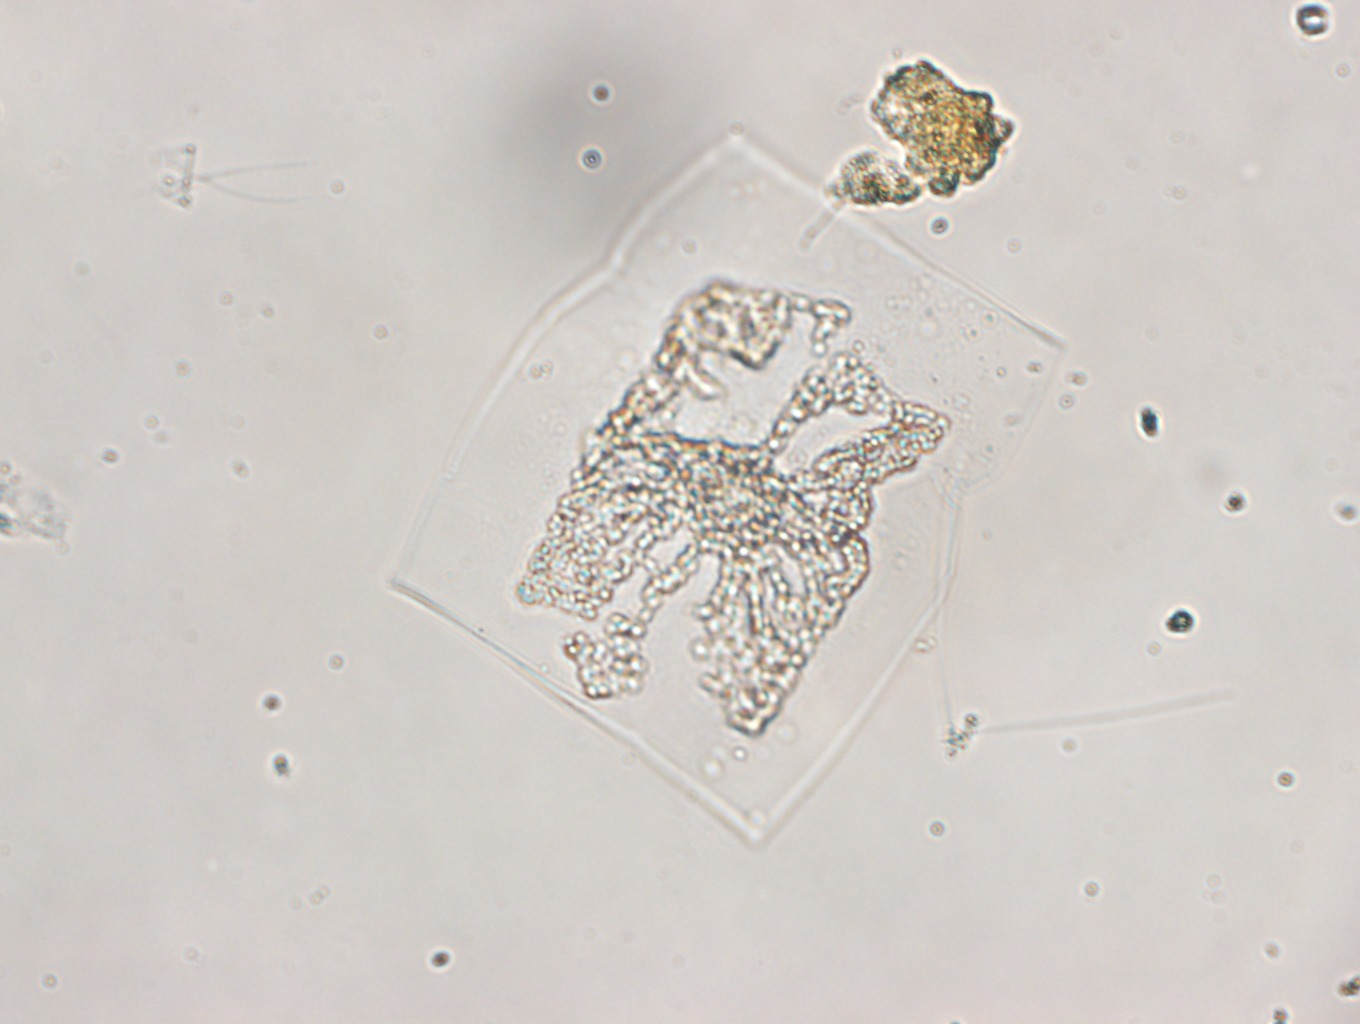helicotheca: (388, 127, 1066, 849)
